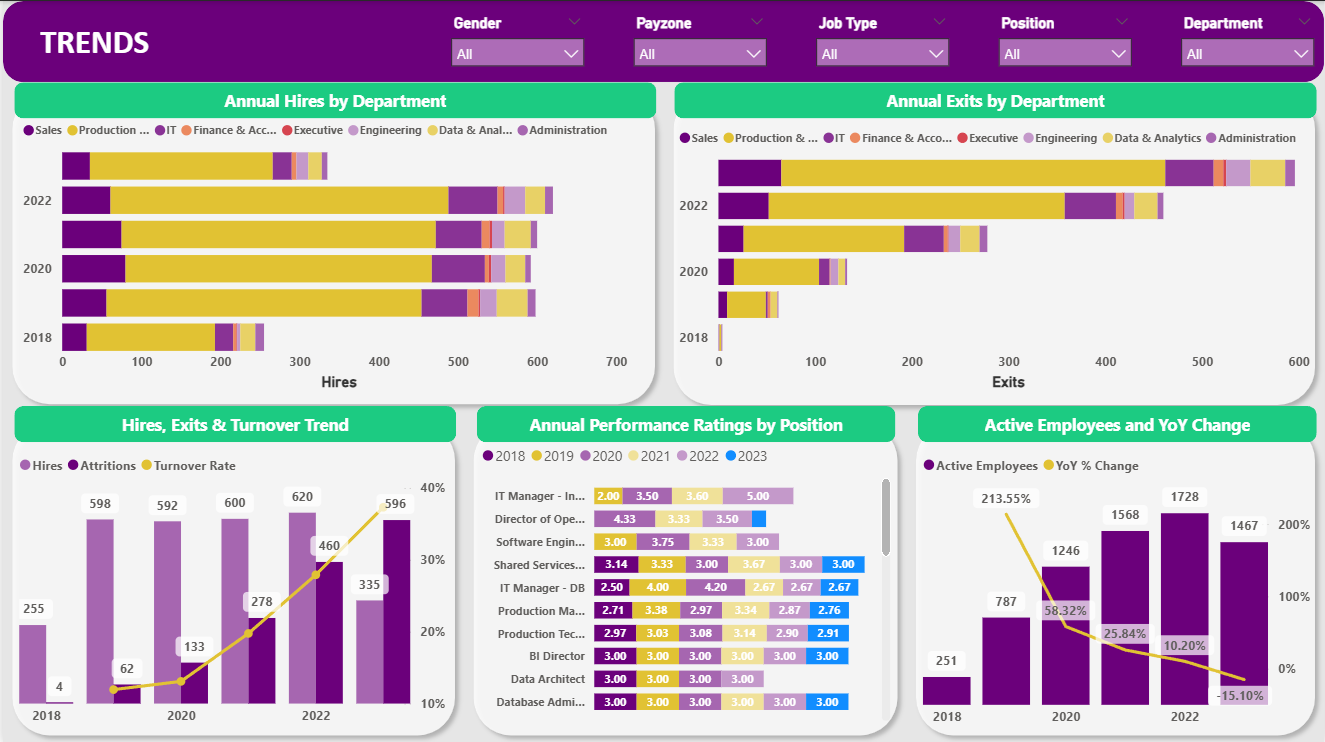

The page's visual inventory and layout, read from the dashboard file:
{"tool":"powerbi","page":{"name":"Trends","canvas":[1280,720],"ordinal":2},"visuals":[{"type":"shape","box":[640.5,78.5,639.3,321.5],"z":0},{"type":"shape","box":[875.2,399.5,404.3,320.8],"z":1000},{"type":"shape","box":[0,399.5,446.7,320.8],"z":2000},{"type":"shape","box":[0,78.7,640.4,320.8],"z":3000},{"type":"lineClusteredColumnComboChart","fields":{"Category":["dim_date.Year"],"Y":["_Measures.Active Employees Rolling by Year"],"Y2":["_Measures.Active Employees YoY % Change"]},"box":[886.1,429.7,386.1,282],"z":4000},{"type":"lineClusteredColumnComboChart","fields":{"Category":["dim_date.Year"],"Y2":["_Measures.Turnover Rate by Year"],"Y":["_Measures.Hires by Year","_Measures.Exits by Year"]},"box":[10.9,429.7,423.7,280.8],"z":5000},{"type":"barChart","fields":{"Category":["dim_date.Year"],"Y":["_Measures.Hires by Year"],"Series":["silver Employees.department"]},"box":[14.5,106.5,595.6,274.8],"z":6000},{"type":"barChart","fields":{"Category":["silver Employees.exit_year"],"Y":["CountNonNull(silver Employees.employee_id)"],"Series":["silver Employees.department"]},"box":[650,113.8,621,267.5],"z":7000},{"type":"shape","box":[10.9,78.7,622,35.1],"z":8000},{"type":"shape","box":[650,78.7,622.2,35.1],"z":9000},{"type":"shape","box":[446.7,399.5,428.5,320.8],"z":10000},{"type":"barChart","fields":{"Y":["Avg(silver Employees.current_rating)"],"Series":["dim_date.Year"],"Category":["silver Employees.title"]},"box":[458.8,420,405.5,282],"z":11000},{"type":"shape","box":[886.1,392.2,386.1,35.1],"z":13000},{"type":"shape","box":[458.8,392.2,405.5,35.1],"z":14000},{"type":"shape","box":[0,0,1279.5,78.7],"z":15000},{"type":"slicer","fields":{"Values":["silver Employees.gender"]},"box":[423.2,7.3,148.9,65.4],"z":16000},{"type":"slicer","fields":{"Values":["silver Employees.payzone"]},"box":[600,7.3,148.9,65.4],"z":17000},{"type":"slicer","fields":{"Values":["silver Employees.employment_type"]},"box":[776.9,7.3,148.9,65.4],"z":18000},{"type":"slicer","fields":{"Values":["silver Employees.title"]},"box":[953.8,7.3,148.9,65.4],"z":19000},{"type":"slicer","fields":{"Values":["silver Employees.department"]},"box":[1130.6,7.3,148.9,65.4],"z":20000},{"type":"shape","box":[10.9,392,428,35.1],"z":20001}]}

Visuals, with their boxes in screenshot pixels (x1, y1, x2, y2), scaled from the page's 1280x720 canvas onto the 1325x742 screenshot:
shape: <box>663,81,1324,412</box>
shape: <box>906,412,1324,741</box>
shape: <box>0,412,462,741</box>
shape: <box>0,81,663,412</box>
lineClusteredColumnComboChart - dim_date.Year x _Measures.Active Employees Rolling by Year: <box>917,443,1317,733</box>
lineClusteredColumnComboChart - dim_date.Year x _Measures.Turnover Rate by Year: <box>11,443,450,732</box>
barChart - dim_date.Year x _Measures.Hires by Year: <box>15,110,632,393</box>
barChart - silver Employees.exit_year x CountNonNull(silver Employees.employee_id): <box>673,117,1316,393</box>
shape: <box>11,81,655,117</box>
shape: <box>673,81,1317,117</box>
shape: <box>462,412,906,741</box>
barChart - Avg(silver Employees.current_rating) x dim_date.Year: <box>475,433,895,723</box>
shape: <box>917,404,1317,440</box>
shape: <box>475,404,895,440</box>
shape: <box>0,0,1324,81</box>
slicer - silver Employees.gender: <box>438,8,592,75</box>
slicer - silver Employees.payzone: <box>621,8,775,75</box>
slicer - silver Employees.employment_type: <box>804,8,958,75</box>
slicer - silver Employees.title: <box>987,8,1141,75</box>
slicer - silver Employees.department: <box>1170,8,1324,75</box>
shape: <box>11,404,454,440</box>
